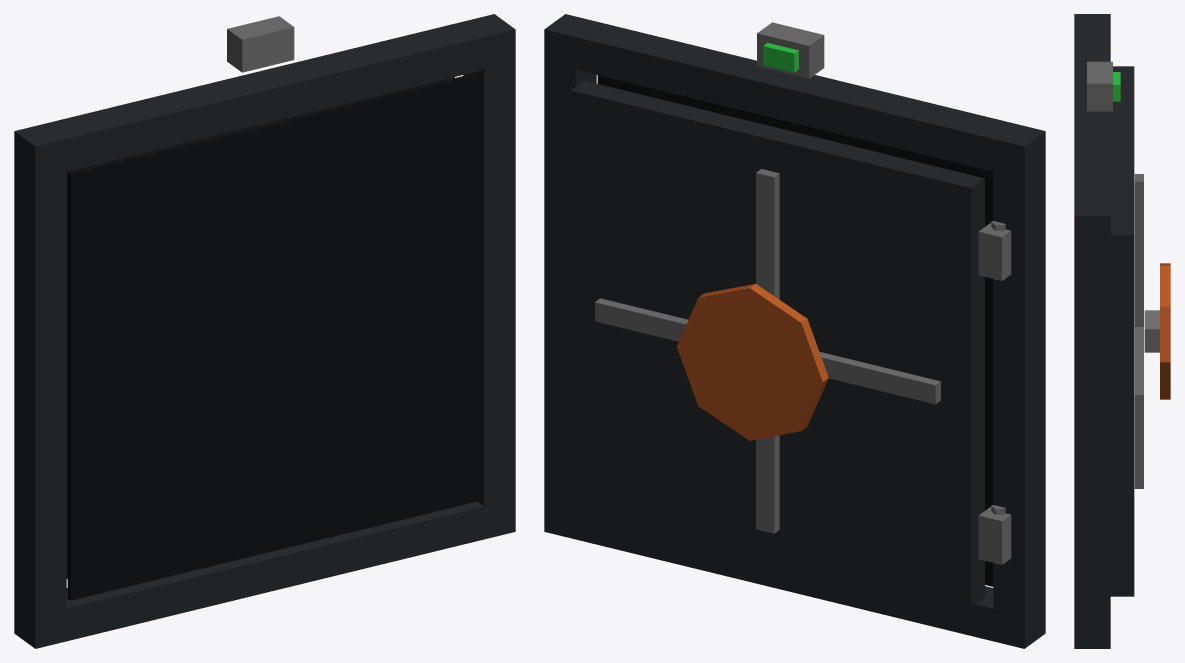
File: maintenance_hatch.glb
The picture shows the model from 3 angles, left to right: view 1: azimuth 30°, elevation 25°; view 2: azimuth 150°, elevation 25°; view 3: azimuth 270°, elevation 25°; orthographic projection. The views are drawn at different scales.
Parts seen in each view (by area): view 1: maintenance_hatch; view 2: maintenance_hatch; view 3: maintenance_hatch.
Part boxes in pixels (x1,y1,x2,y2): maintenance_hatch: (14,14,515,648); maintenance_hatch: (544,14,1045,648); maintenance_hatch: (1074,14,1170,648).
Size of the model in its own units: 0.92 by 1.01 by 0.185.
